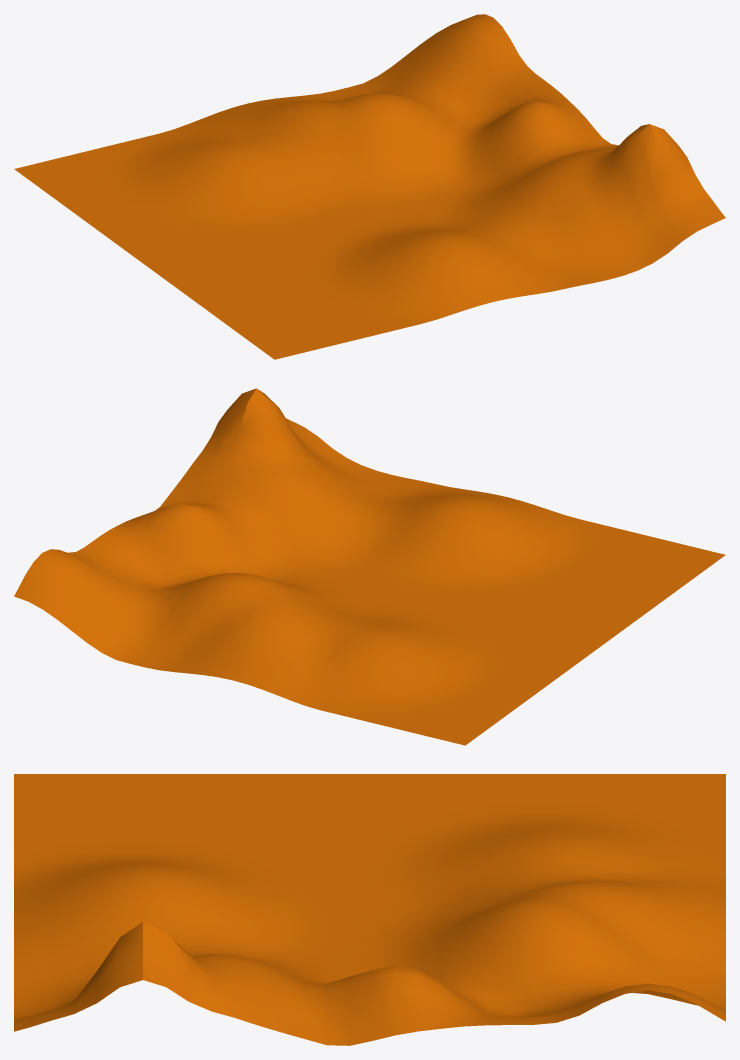
File: Outside interview.fbx
3 views of the same model, one above another, from view 1: azimuth 30°, elevation 25°; view 2: azimuth 150°, elevation 25°; view 3: azimuth 270°, elevation 25° (orthographic). The views are drawn at different scales.
Parts seen in each view (by area): view 1: Plane; view 2: Plane; view 3: Plane.
Part boxes in pixels (x1,y1,x2,y2): Plane: [14, 14, 725, 359]; Plane: [14, 388, 725, 745]; Plane: [14, 774, 725, 1045].
Size of the model in its own units: 30372 by 6405 by 30372.
